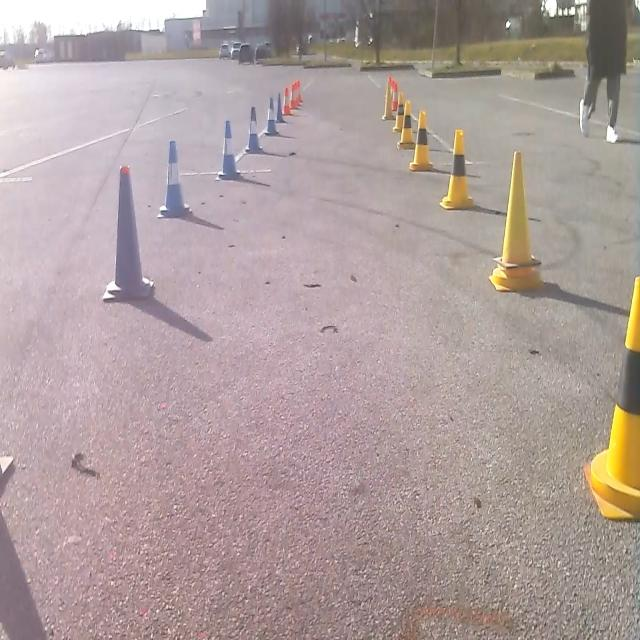blue_cone: (102, 162, 155, 302), (158, 138, 191, 218), (216, 118, 241, 180), (244, 104, 264, 154), (263, 96, 279, 136), (275, 91, 285, 123)
orange_cone: (290, 81, 303, 109), (282, 85, 293, 115)
yellow_cone: (584, 274, 639, 520), (488, 148, 544, 292), (439, 127, 474, 210), (408, 108, 433, 171), (396, 98, 415, 148), (381, 79, 395, 120), (392, 90, 405, 131)
